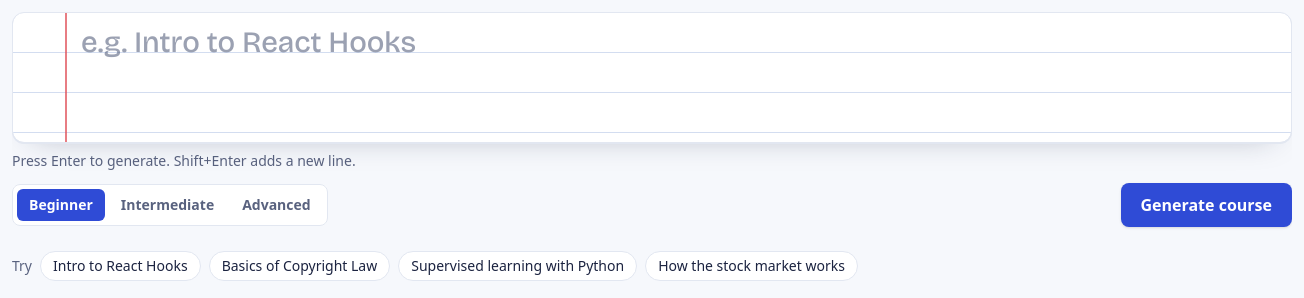
PromptForm › blocks topics shorter than 3 characters
Type "ab" into the text box named "Topic you want to learn" at (652, 77), box [13,13,1291,142]
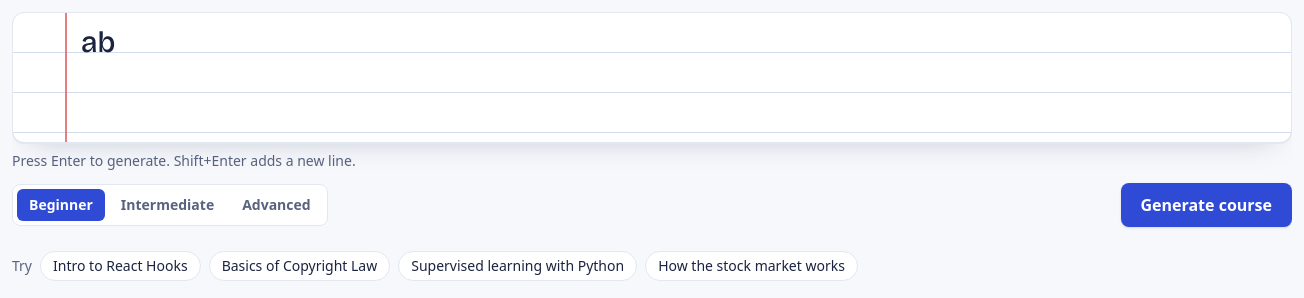
Click the button "Generate course" at (1206, 205), box [1120,183,1292,227]
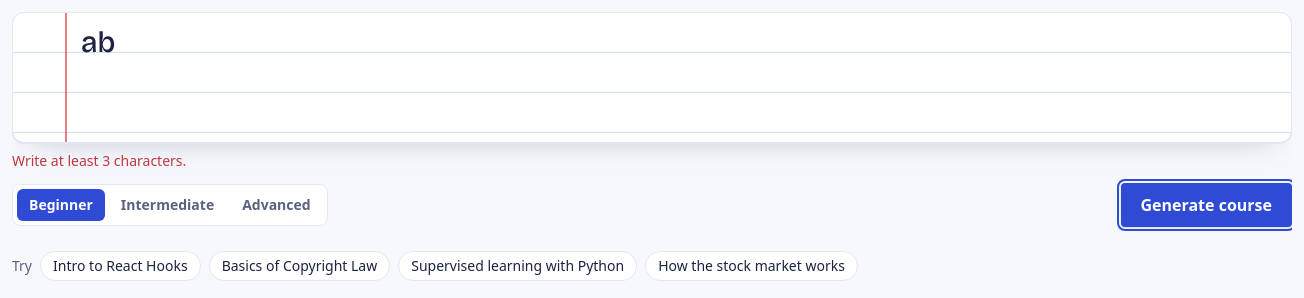
Result: the text "Write at least 3 characters." is shown at [12,151,186,170]
